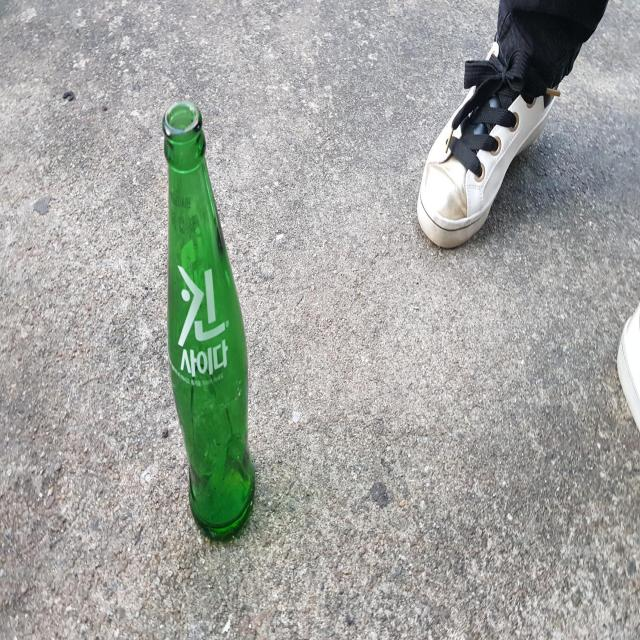glass: (162, 101, 254, 538)
